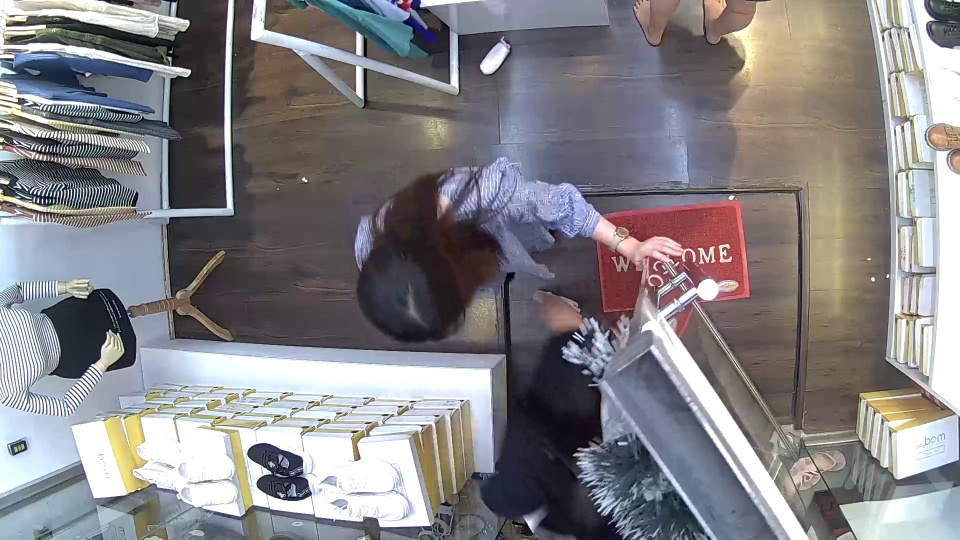topviewhead: (353, 238, 470, 346)
